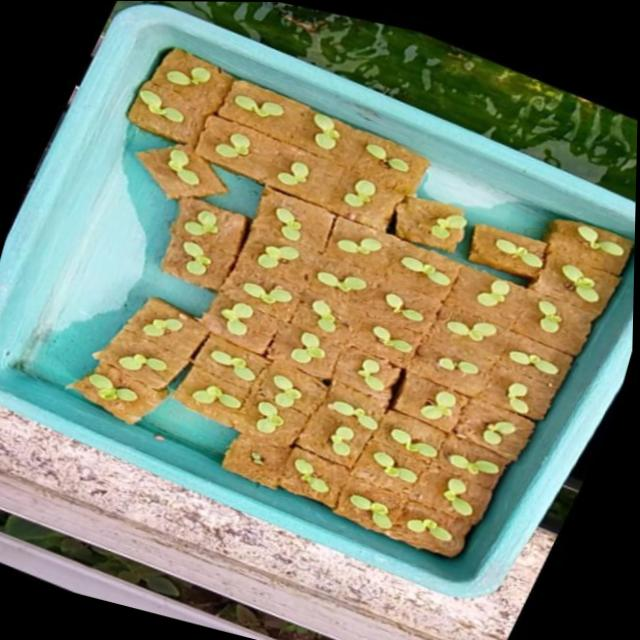Baby: (180, 153, 232, 202), (174, 65, 239, 104), (546, 294, 595, 344), (451, 361, 511, 395), (176, 93, 223, 135), (374, 365, 424, 404), (473, 464, 533, 495), (233, 357, 286, 391), (241, 95, 302, 124), (263, 282, 311, 318), (263, 247, 319, 275), (353, 411, 405, 441), (376, 507, 420, 542), (508, 430, 548, 468), (111, 381, 161, 410), (416, 439, 465, 468), (406, 299, 449, 330), (319, 470, 356, 505), (535, 357, 585, 382), (203, 206, 237, 242), (394, 332, 436, 360), (243, 310, 277, 344), (315, 339, 350, 372), (446, 401, 484, 431), (472, 489, 501, 528), (433, 530, 480, 553), (470, 327, 521, 348), (214, 398, 262, 420), (339, 278, 389, 299), (332, 119, 360, 155), (297, 384, 326, 417), (295, 212, 322, 247), (281, 409, 309, 442), (501, 285, 534, 313), (364, 184, 397, 212), (141, 361, 191, 379), (407, 470, 444, 494), (236, 140, 271, 165), (202, 254, 232, 283), (332, 307, 359, 339), (531, 391, 555, 424), (165, 325, 206, 344), (355, 437, 380, 468), (297, 167, 329, 191), (365, 244, 401, 261)
